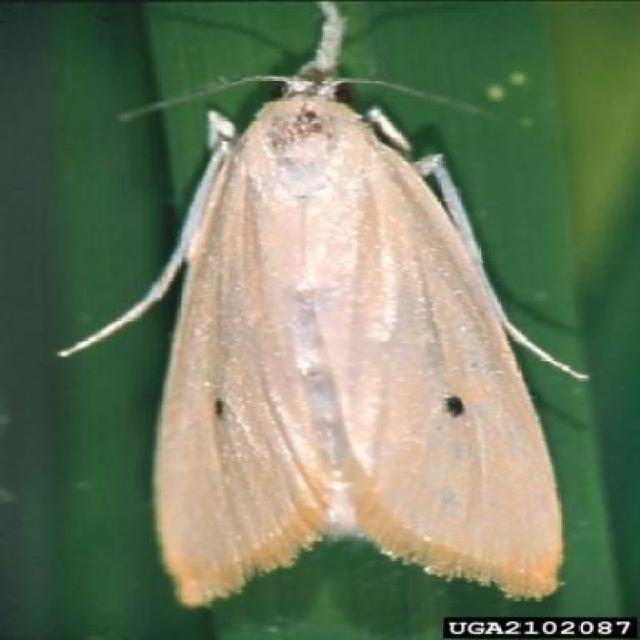stem-borer: (52, 0, 591, 611)
